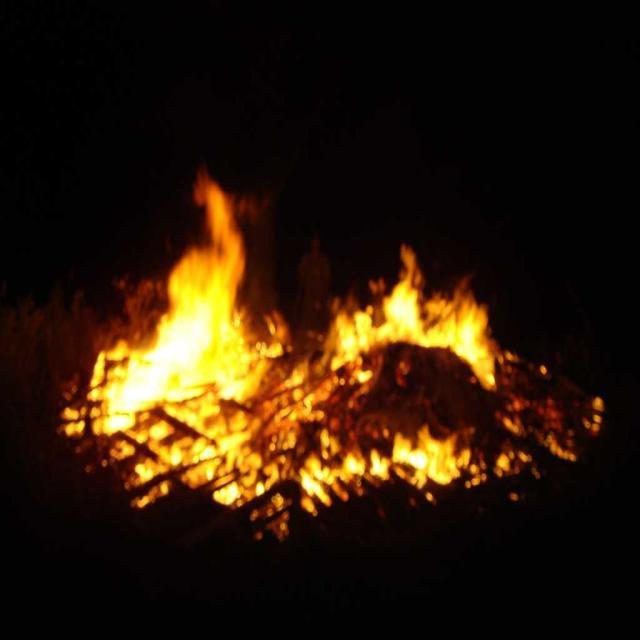Fire: (179, 273, 239, 405), (108, 355, 174, 402), (444, 314, 490, 358), (389, 280, 425, 333)
